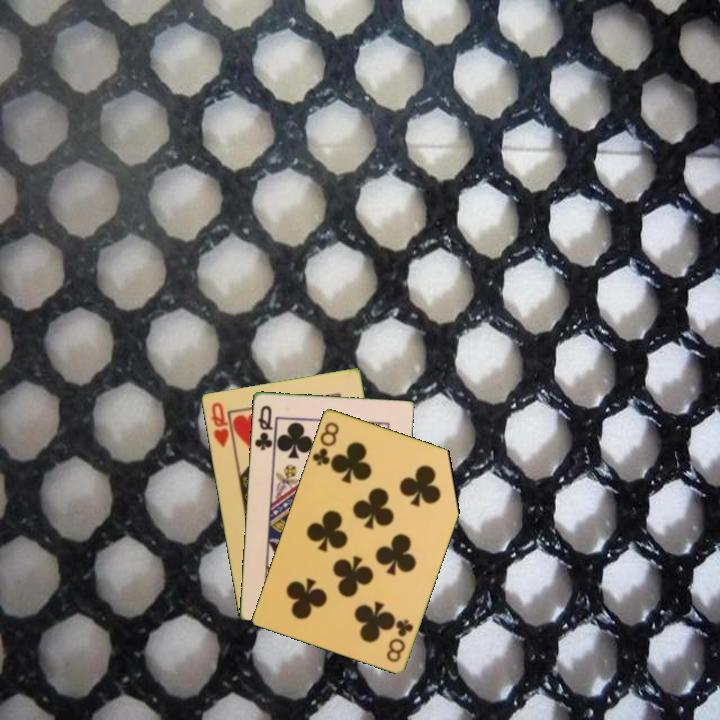8c: (308, 418, 342, 468), (382, 615, 416, 665)
Qc: (251, 402, 275, 453)
Qh: (207, 398, 231, 450)
